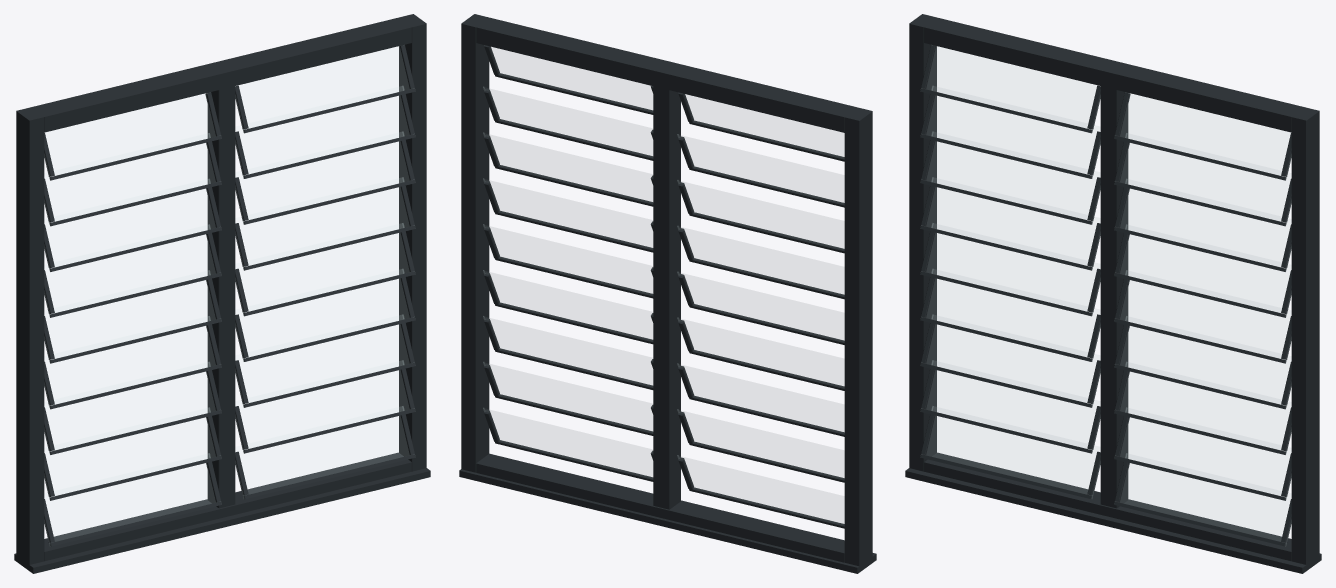
Rendered from black-twin-bay-glass-jalousie-window-05.glb.
The picture shows the model from 3 angles, left to right: view 1: azimuth 30°, elevation 25°; view 2: azimuth 150°, elevation 25°; view 3: azimuth 330°, elevation 25°; orthographic projection.
Visible parts, largest first — view 1: Window / Glass louver, Window / Outer jamb, Window / Blade lower edge, Window / Blade clip, Window / Center mullion, Window / Sill extrusion, Window / Glass louver glass edges; view 2: Window / Glass louver, Window / Outer jamb, Window / Blade lower edge, Window / Center mullion, Window / Blade clip, Window / Sill extrusion; view 3: Window / Glass louver, Window / Outer jamb, Window / Blade lower edge, Window / Blade clip, Window / Center mullion, Window / Sill extrusion, Window / Glass louver glass edges.
Boxes of the visible parts, left/top/right/bottom form: Window / Glass louver: left=45, top=46, right=408, bottom=541; Window / Outer jamb: left=16, top=14, right=426, bottom=570; Window / Blade lower edge: left=49, top=88, right=415, bottom=546; Window / Blade clip: left=44, top=45, right=414, bottom=542; Window / Center mullion: left=207, top=86, right=235, bottom=508; Window / Sill extrusion: left=14, top=468, right=430, bottom=573; Window / Glass louver glass edges: left=44, top=86, right=414, bottom=544; Window / Glass louver: left=484, top=47, right=843, bottom=524; Window / Outer jamb: left=461, top=14, right=872, bottom=571; Window / Blade lower edge: left=495, top=73, right=844, bottom=528; Window / Center mullion: left=653, top=86, right=680, bottom=509; Window / Blade clip: left=484, top=45, right=694, bottom=489; Window / Sill extrusion: left=459, top=469, right=876, bottom=573; Window / Glass louver: left=927, top=46, right=1290, bottom=541; Window / Outer jamb: left=909, top=14, right=1319, bottom=564; Window / Blade lower edge: left=920, top=88, right=1286, bottom=546; Window / Blade clip: left=921, top=45, right=1291, bottom=542; Window / Center mullion: left=1100, top=86, right=1128, bottom=508; Window / Sill extrusion: left=905, top=468, right=1321, bottom=573; Window / Glass louver glass edges: left=921, top=86, right=1291, bottom=544.
Size of the model in its own units: 1.2 by 1.3 by 0.1076.
